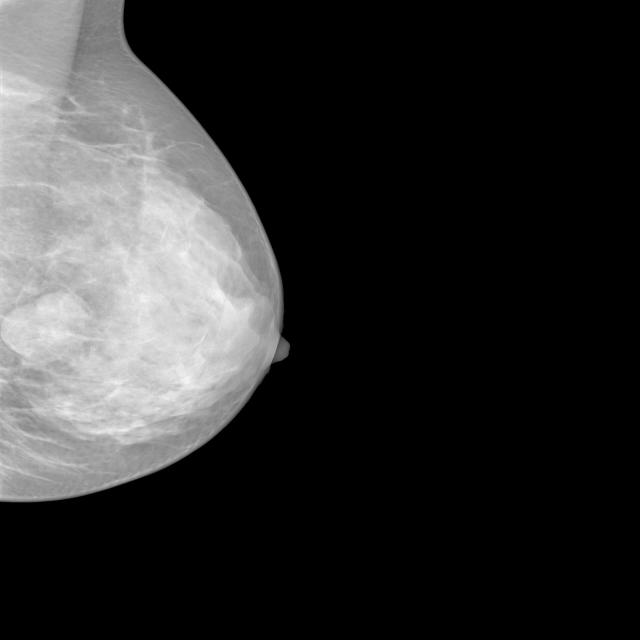Mass_1: (0, 276, 118, 376)
